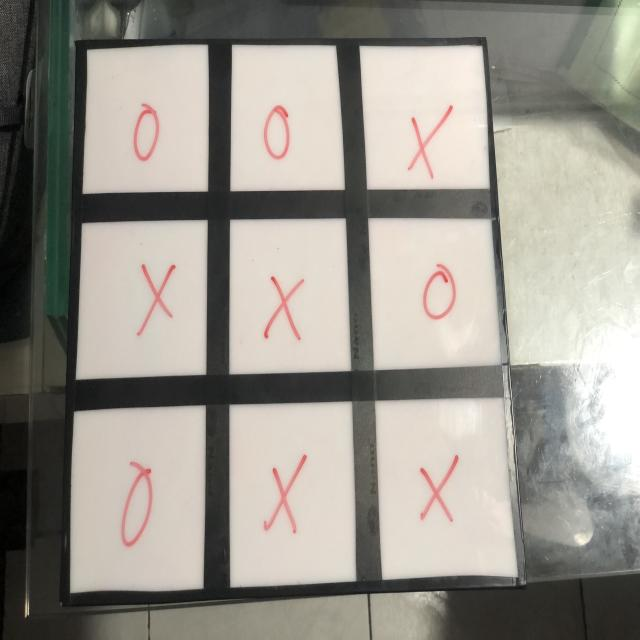o: (120, 466, 163, 550), (416, 264, 459, 329), (130, 106, 168, 166), (264, 106, 293, 165)
table: (39, 28, 525, 605)
x: (266, 451, 306, 541), (137, 255, 176, 338), (409, 103, 454, 173), (263, 270, 304, 344), (420, 454, 460, 526)
